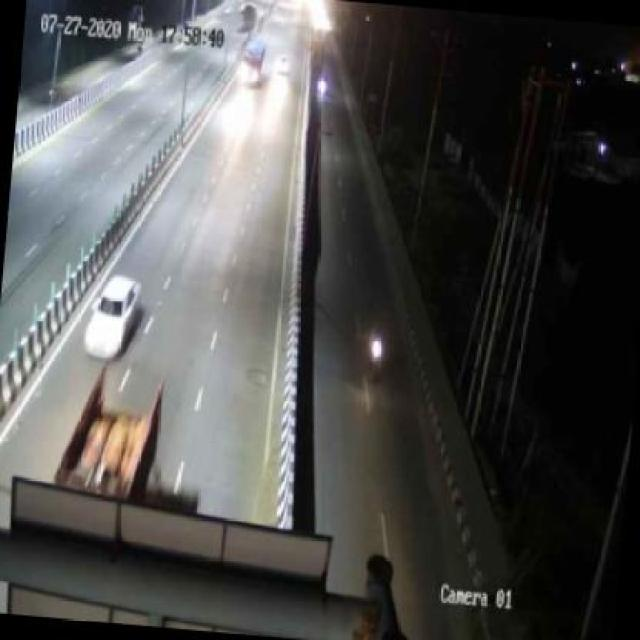car: (80, 270, 138, 364), (272, 50, 292, 82)
